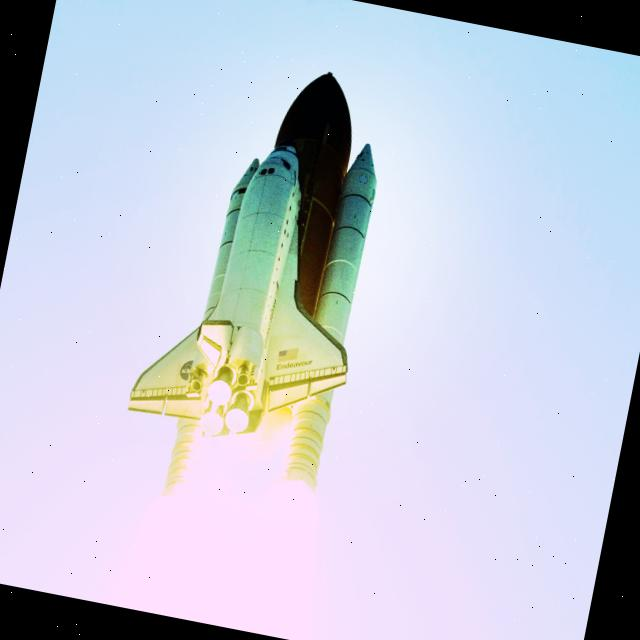rocket: (106, 119, 392, 452)
